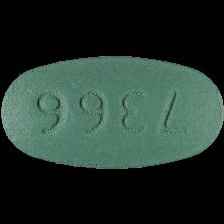54868-6107: (0, 0, 224, 224)
